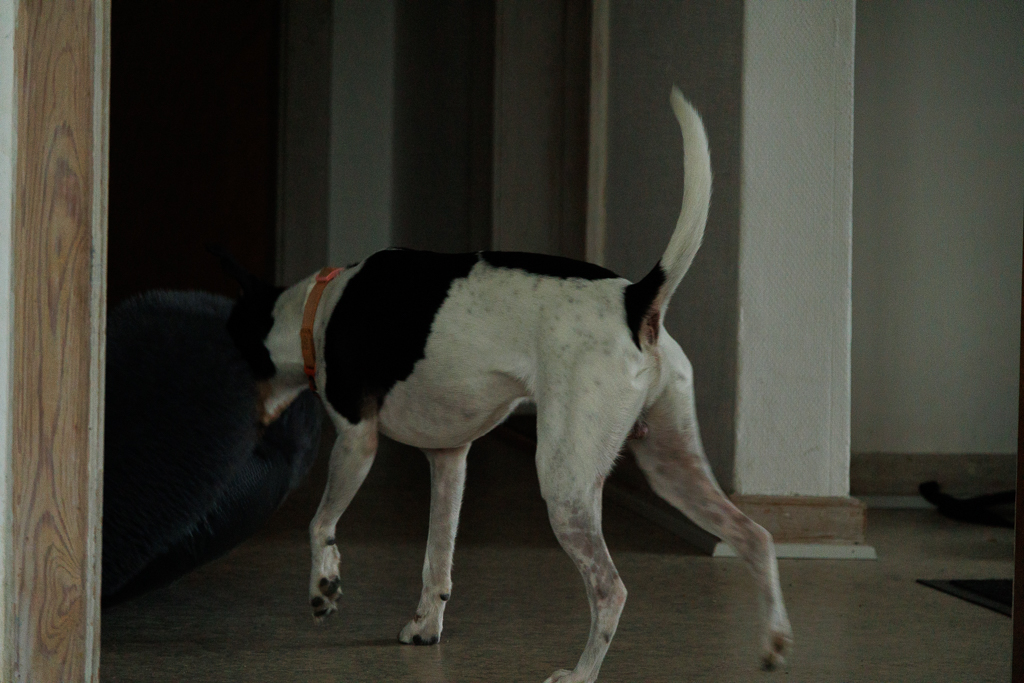Dog: (244, 75, 807, 683)
